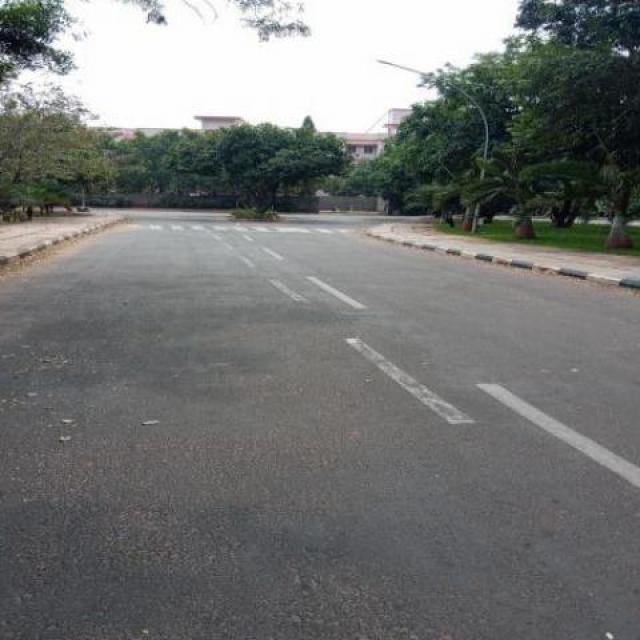Speed Bump: (109, 224, 376, 234)
